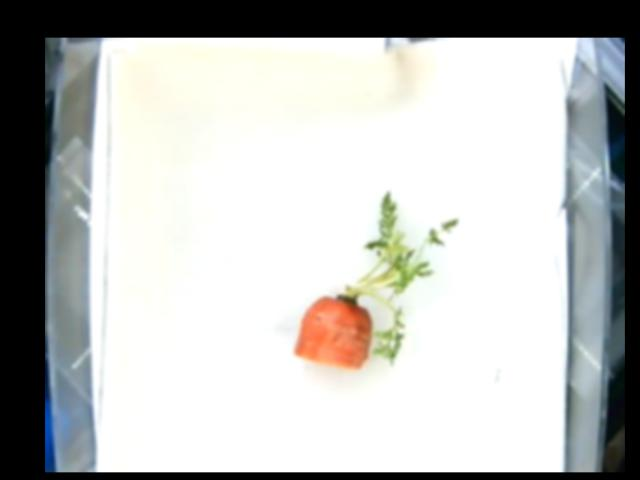Carrot: (295, 189, 459, 370)
